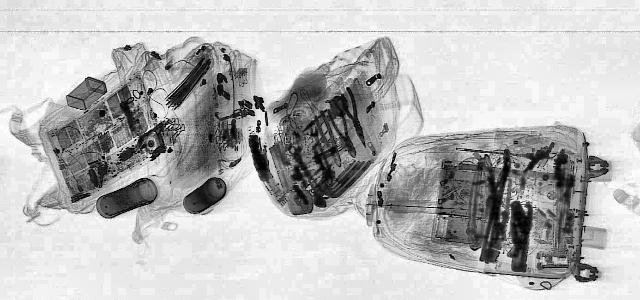Pliers: (332, 86, 376, 148), (306, 110, 348, 168), (324, 108, 364, 158)
